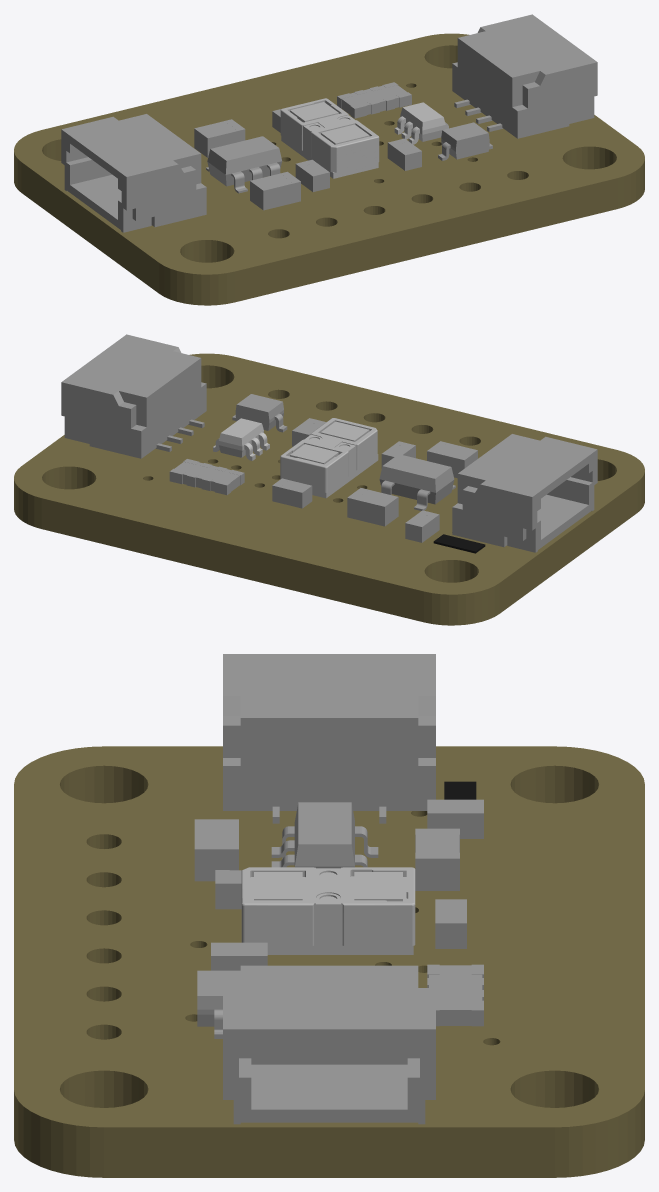
Rendered from adafruit-3967-vl53l1x.glb.
The picture shows the model from 3 angles, top to bottom: view 1: azimuth 30°, elevation 25°; view 2: azimuth 150°, elevation 25°; view 3: azimuth 270°, elevation 25°; orthographic projection. The views are drawn at different scales.
Visible parts, largest first — view 1: colour 1, colour 3, colour 2, colour 4; view 2: colour 1, colour 3, colour 2, colour 4, colour 5; view 3: colour 1, colour 3, colour 2.
Boxes of the visible parts, x1,y1,x2,y2 form: colour 1: (14,33,644,305); colour 3: (61,14,597,232); colour 2: (280,98,379,178); colour 4: (394,102,448,144); colour 1: (14,353,644,625); colour 3: (61,334,597,552); colour 2: (280,418,378,498); colour 4: (213,418,269,460); colour 5: (433,534,485,553); colour 1: (14,746,644,1177); colour 3: (194,654,483,1124); colour 2: (241,867,415,954).
Size of the model in its own units: 0.0254 by 0.00453 by 0.0178.
